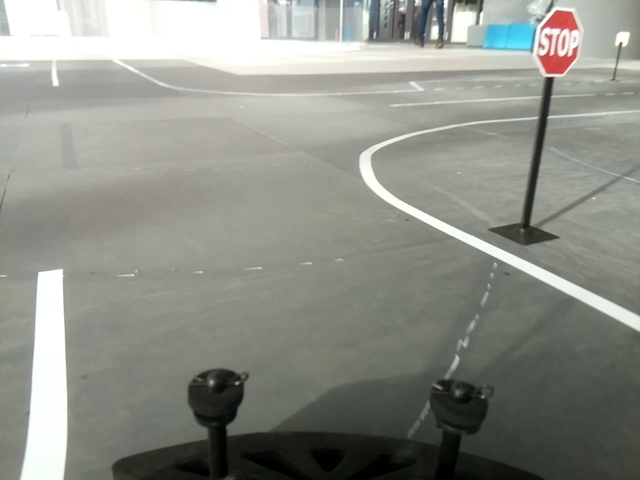stop: (533, 7, 583, 76)
